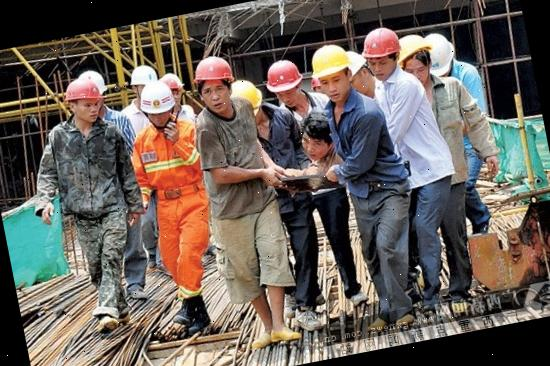helmet: (420, 28, 460, 78), (134, 78, 177, 119), (306, 41, 351, 80), (357, 24, 404, 61), (225, 76, 265, 118), (190, 52, 236, 88), (263, 57, 303, 93), (59, 76, 104, 108), (392, 30, 432, 64), (341, 44, 369, 82), (126, 61, 160, 90), (158, 70, 184, 93)
no_wear: (191, 103, 278, 216), (44, 122, 128, 220), (378, 74, 452, 184), (326, 94, 389, 176), (453, 60, 486, 110)
wear: (139, 122, 206, 208)
